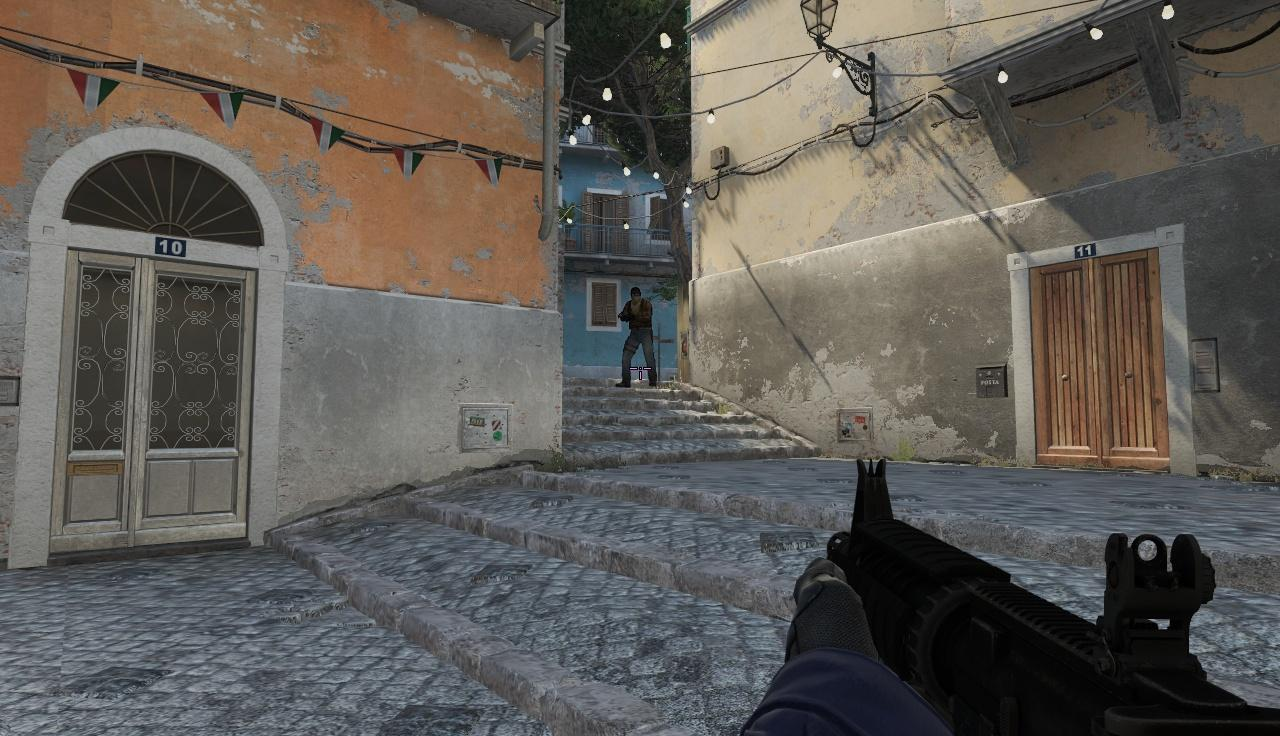rifle: (809, 463, 1280, 736)
tt: (622, 286, 653, 388)
tthead: (630, 287, 641, 303)
